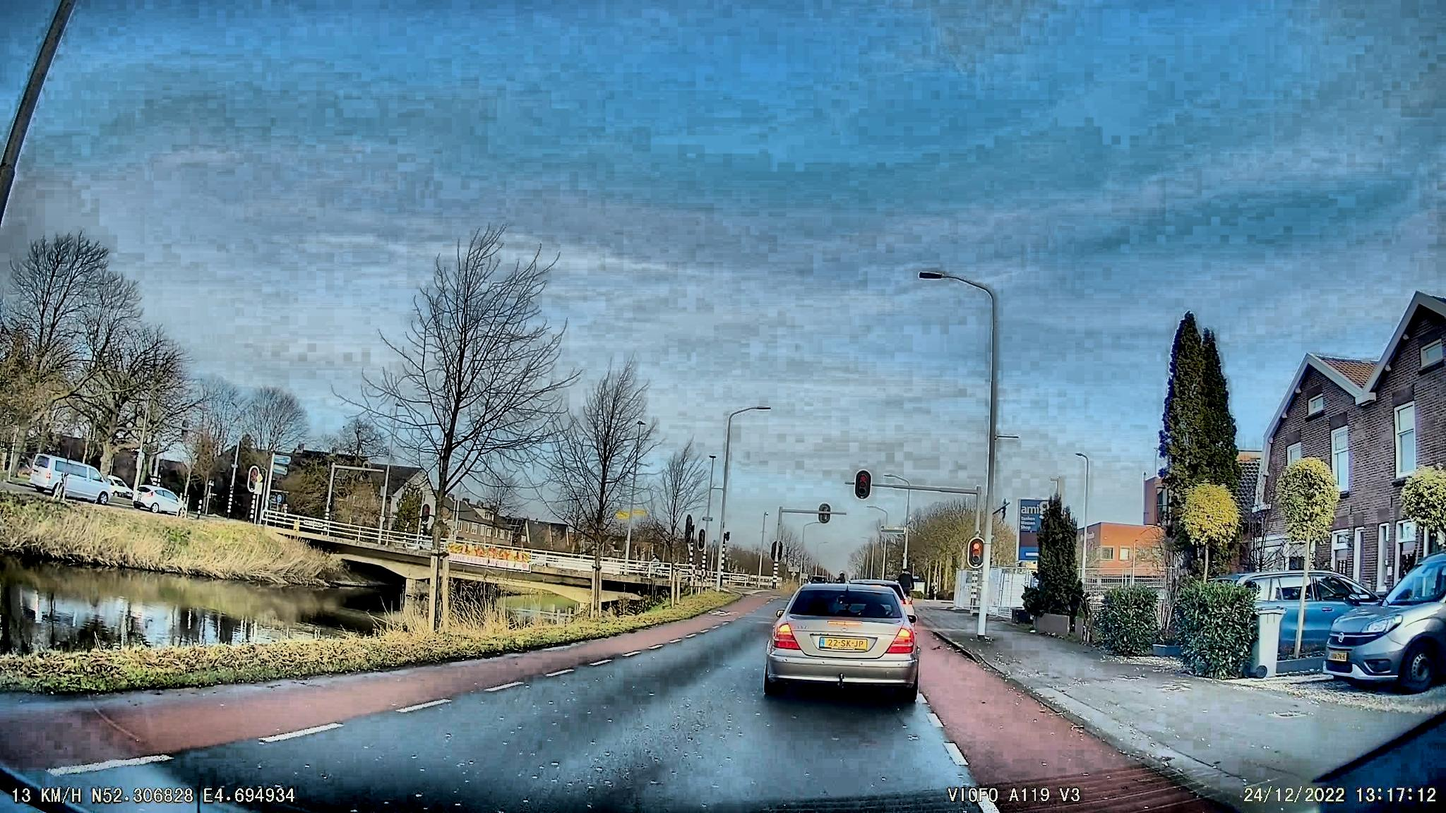Roads: (0, 600, 1156, 813)
